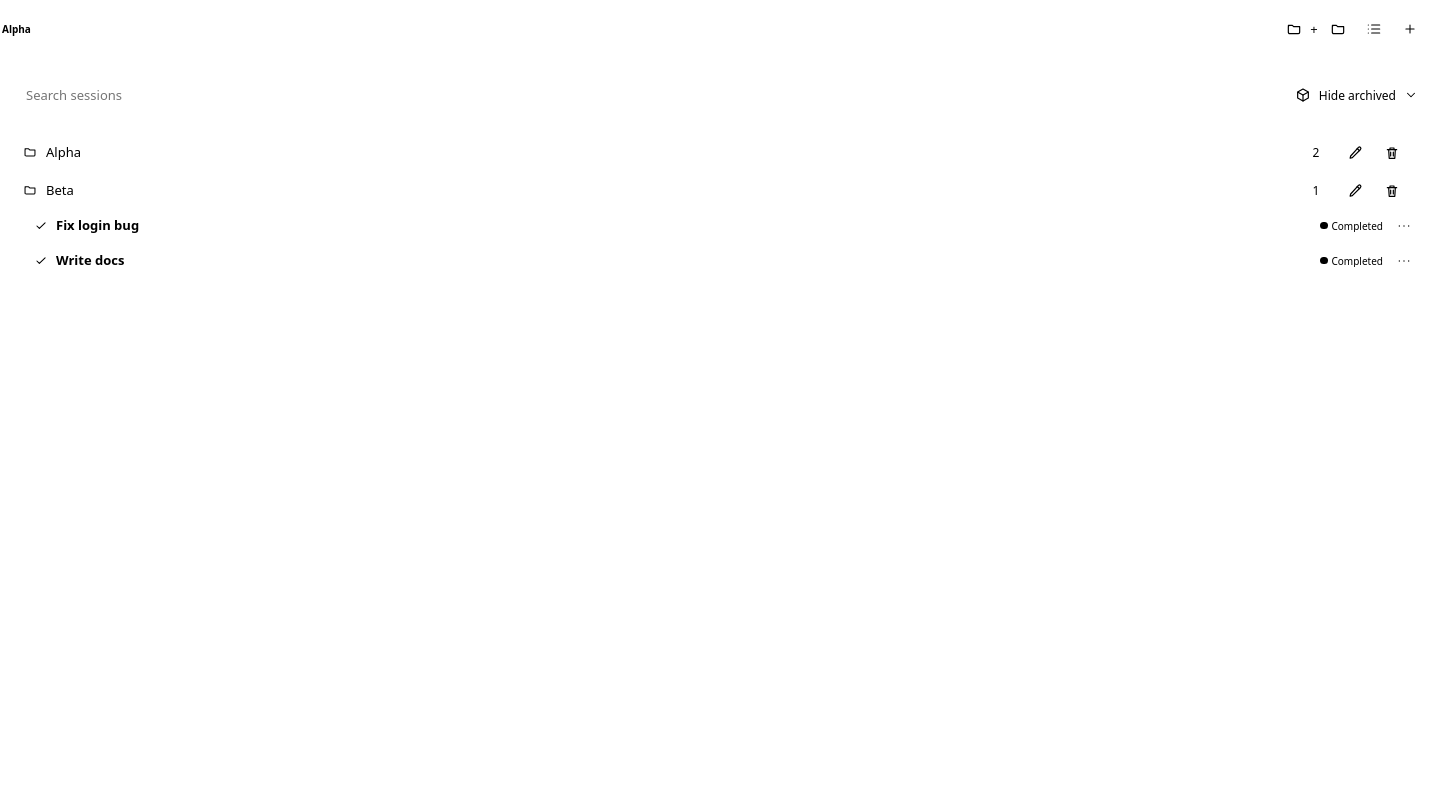
it: SessionDrawer › confirms workspace removal and keeps the destructive action explicit
This screenshot has width=1440, height=810.
Click the button named "Remove workspace Alpha": (1392, 153) [1376,137,1408,169]
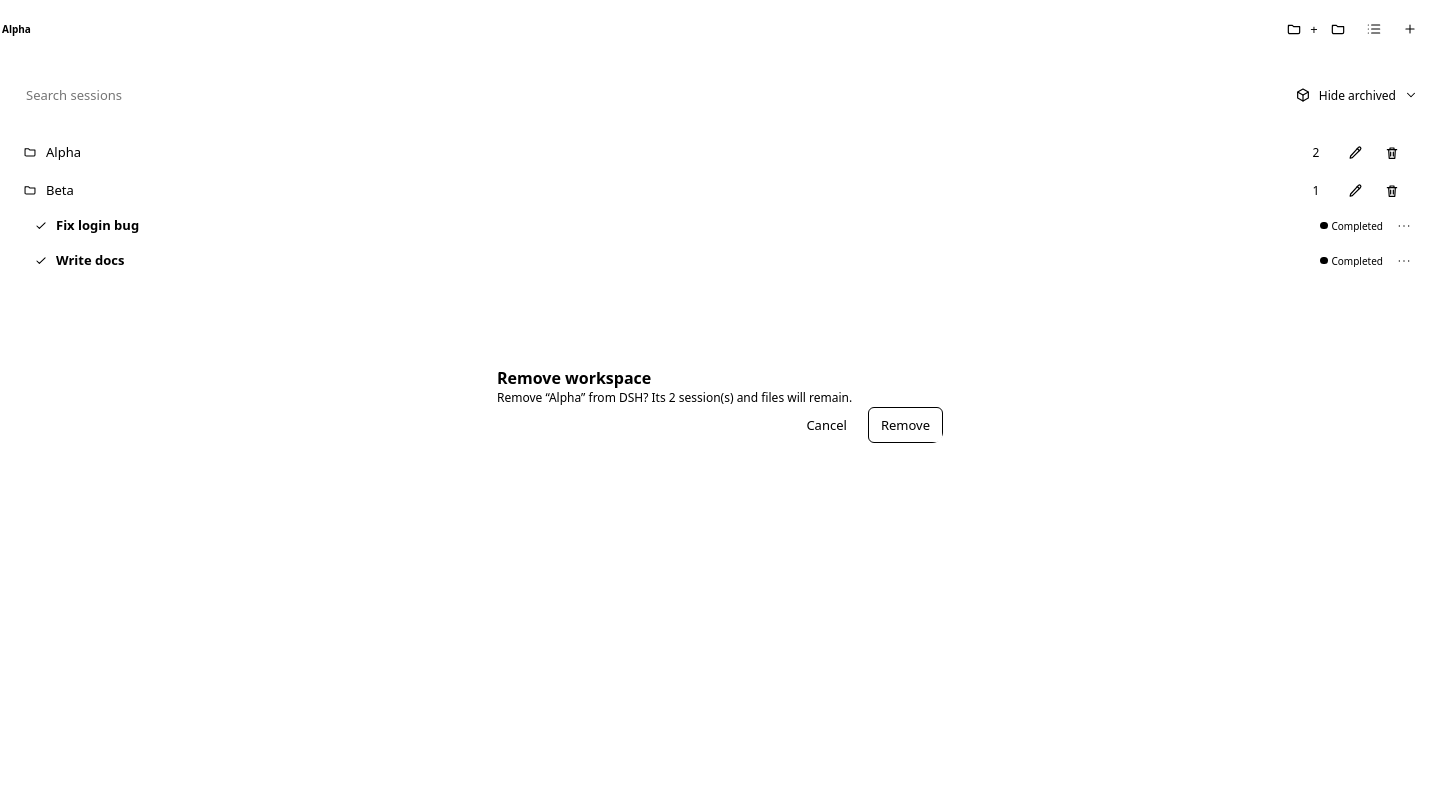
Result: the dialog "Remove workspace" is shown at [496,366,944,444]
Result: the text "Remove “Alpha” from DSH? Its 2 session(s) and files will remain." is shown at [497,389,852,406]
Click the button "Remove": (905, 425) [868,407,943,443]
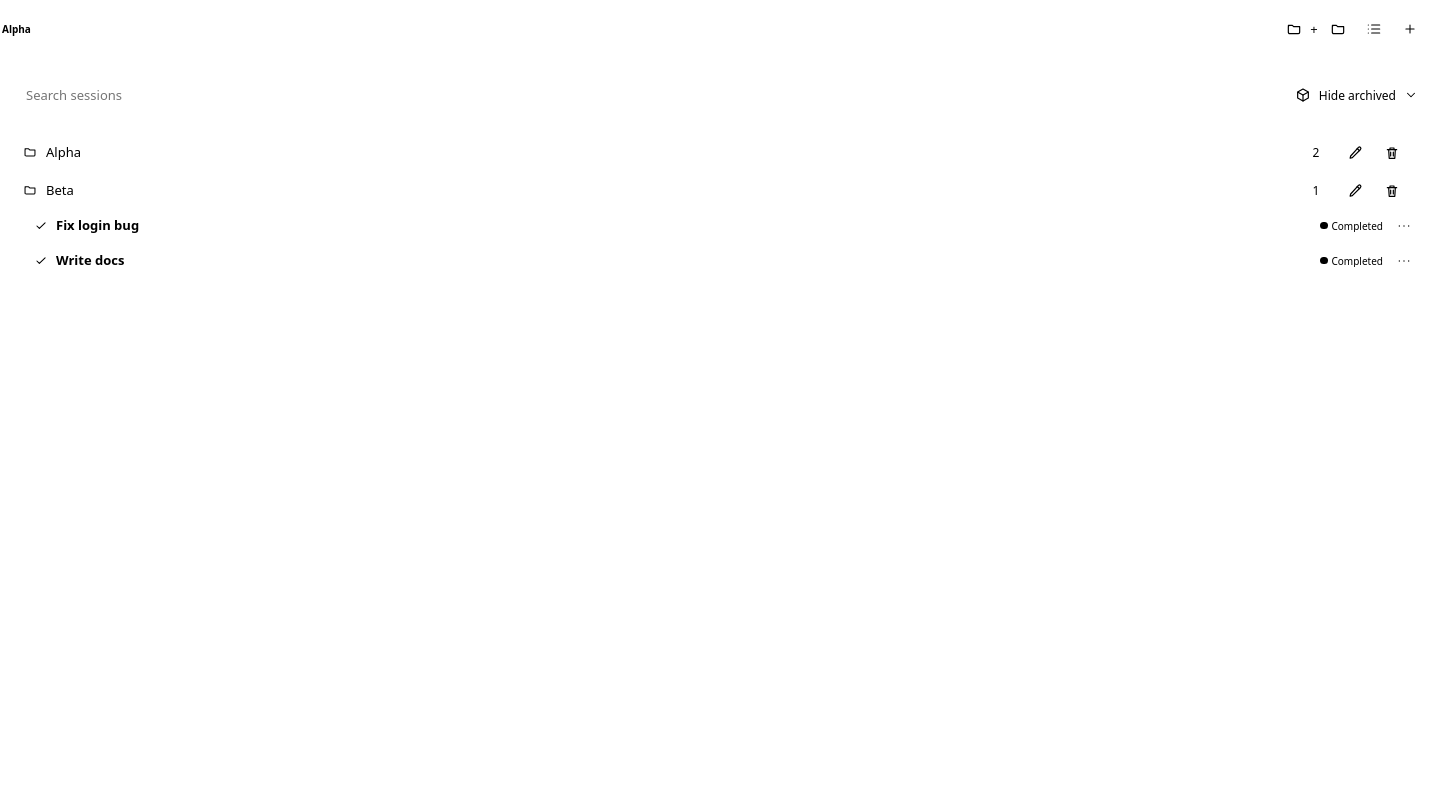
Result: the heading "Remove workspace" is gone
